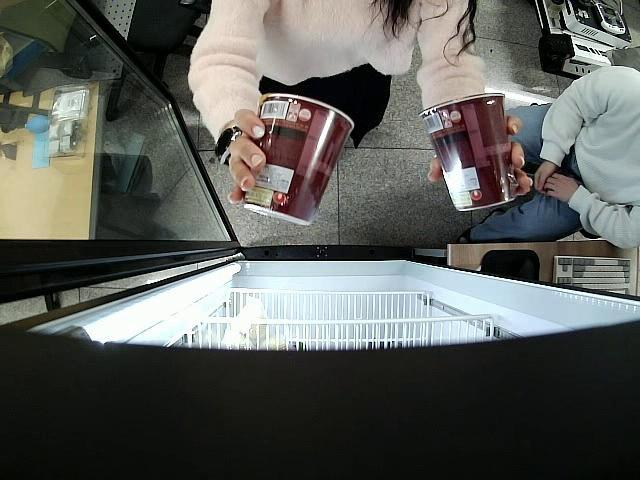06_nuguri_S: (242, 90, 352, 226), (421, 91, 518, 212)
